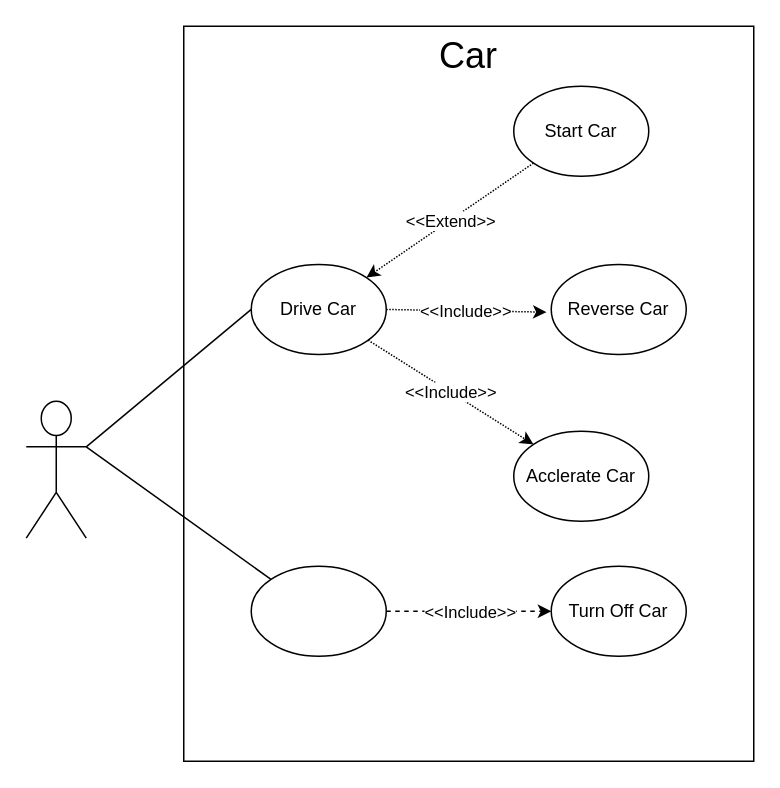
Some shapes in this 780 by 788 pixel diagram are drawn without their labels. The centre of each missing label's shape, as x and y in pixels:
Park Car: [318,610]
User: [55,469]
